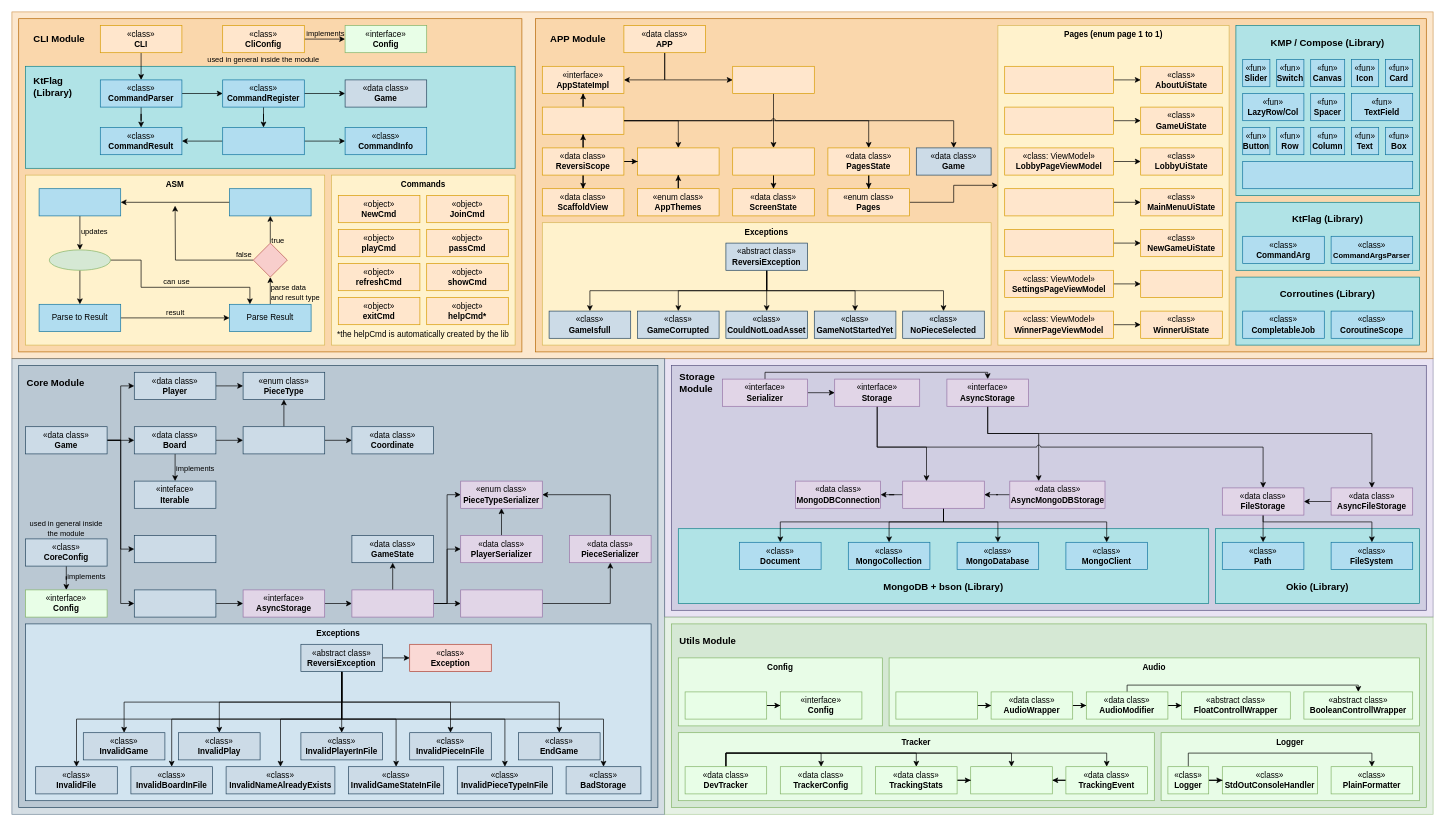
This 1445x826 diagram has some shape labels left out. The shapes that lost their labels are listed below. From the top down, each one's centre as x and y in pixels, then its label:
At [773,80]: "«abstract class» ViewModel".
At [1059,80]: "«class: ViewModel» AboutPageViewModel".
At [583,120]: "«data class» AppState".
At [1059,120]: "«class: ViewModel» GamePageViewModel".
At [263,141]: "«open class» CommandImpl".
At [678,161]: "«data class» AppTheme".
At [773,161]: "«interface» UiState".
At [1327,175]: "«compose...» TooManyToShowHere eheh :>".
At [79,202]: "Read user input".
At [270,202]: "Apply changes".
At [1059,202]: "«class: ViewModel» MainMenuPageViewModel".
At [80,259]: "input".
At [270,259]: "canApply".
At [1059,243]: "«class: ViewModel» NewGamePageViewModel".
At [1181,284]: "«class» SettingsUiState".
At [283,440]: "«data class» Piece".
At [943,494]: "«data class» MongoDBStorage".
At [175,549]: "«object» GameLogic".
At [175,603]: "«interface» GameServiceImpl".
At [392,603]: "«data class» GameStateSerializer".
At [501,603]: "«data class» BoardSerializer".
At [725,705]: "«class» ConfigLoader".
At [936,705]: "«class» AudioPool".
At [1011,780]: "«data class» TrackingType".
